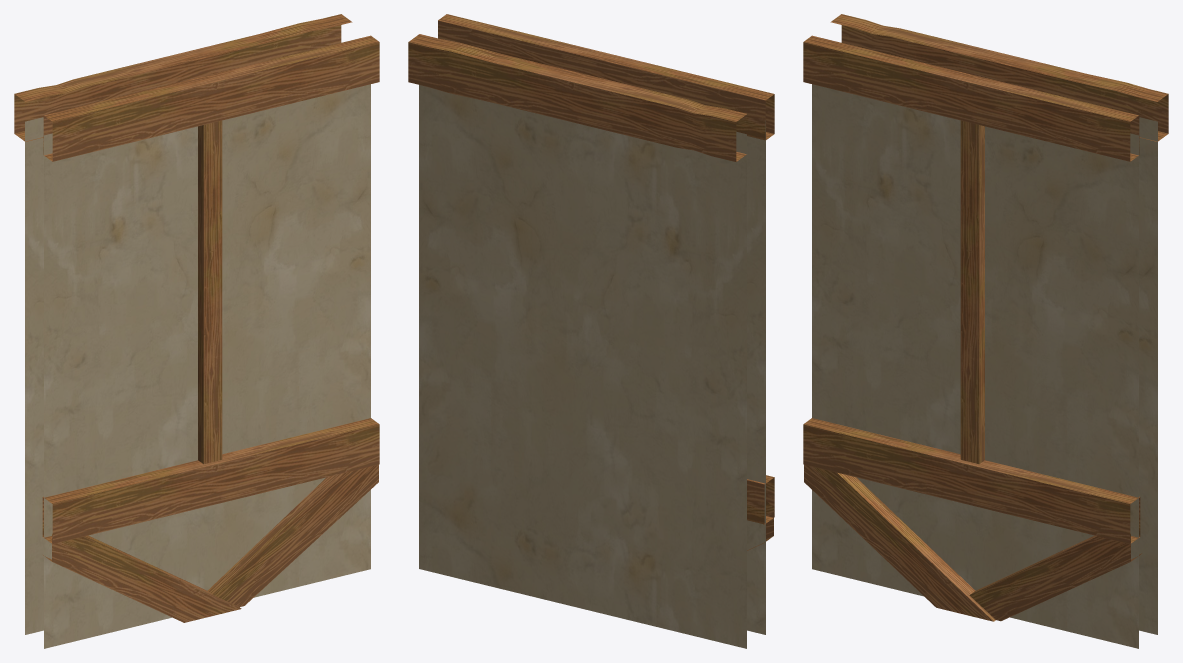
File: village-kit.glb
3 views of the same model, side by side, from view 1: azimuth 30°, elevation 25°; view 2: azimuth 150°, elevation 25°; view 3: azimuth 330°, elevation 25° (orthographic).
Parts seen in each view (by area): view 1: Wall_Plaster_Straight; view 2: Wall_Plaster_Straight; view 3: Wall_Plaster_Straight.
Boxes of the visible parts, bbox=[...] form: Wall_Plaster_Straight: bbox=[14, 14, 379, 648]; Wall_Plaster_Straight: bbox=[408, 14, 774, 648]; Wall_Plaster_Straight: bbox=[803, 14, 1168, 648].
Bounding box in the file's own units: 2 × 3.12 × 0.4066.
Materials: 2 (2 with a texture image).
